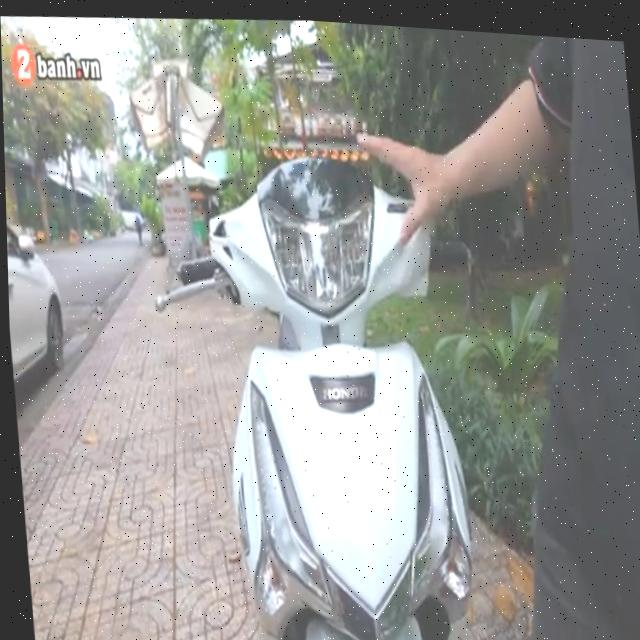car: (6, 202, 81, 458)
motorcycle: (140, 137, 513, 640)
